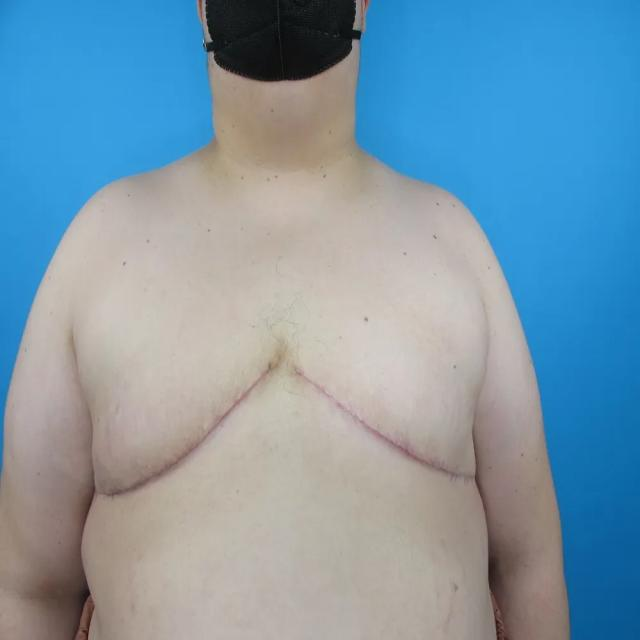Seno herido: (77, 318, 279, 516), (286, 318, 485, 506)
